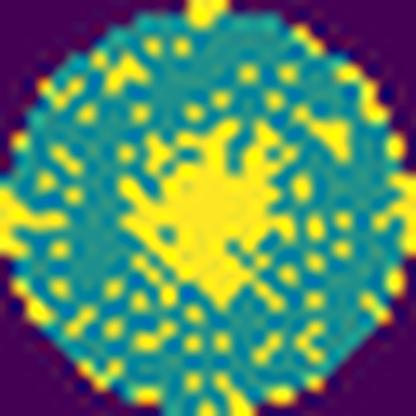Center: (116, 119, 298, 313)
